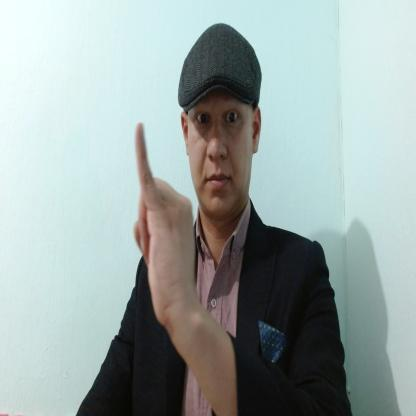I: (131, 122, 196, 320)
